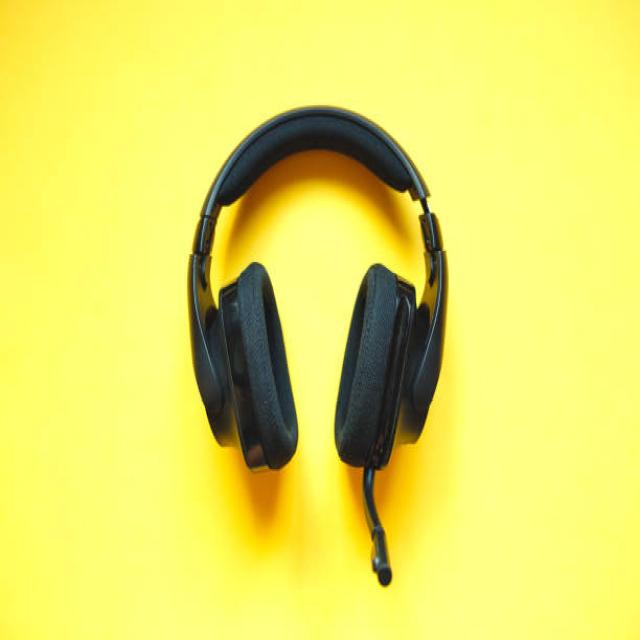Ear-protection: (173, 96, 457, 593)
